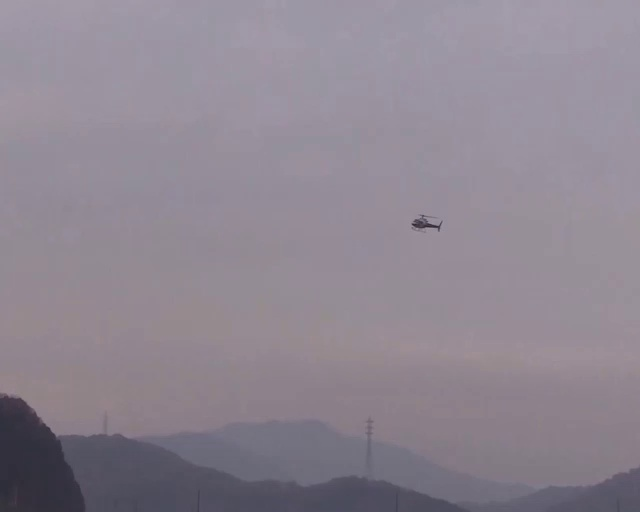HELICOPTER: (412, 214, 442, 232)
